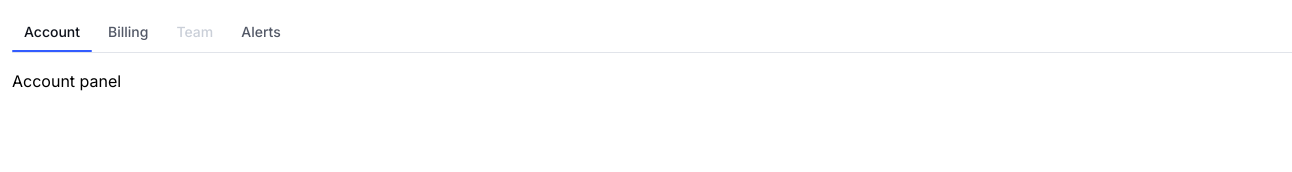
Scenario: Tabs › switches panels on click
Click the tab "Billing" at (128, 32), box [96,12,160,52]
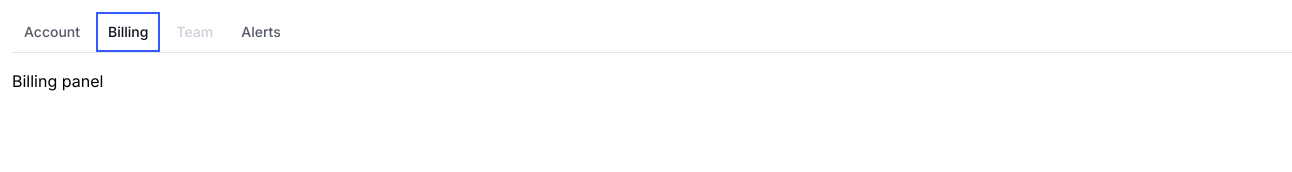
Check: the text "Billing panel" is shown, box [12,71,103,91]
Check: the text "Account panel" is gone
